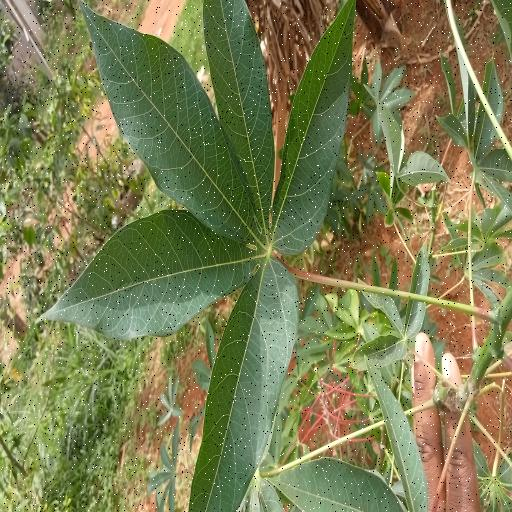Cassava_Healthy: (37, 0, 356, 512)
